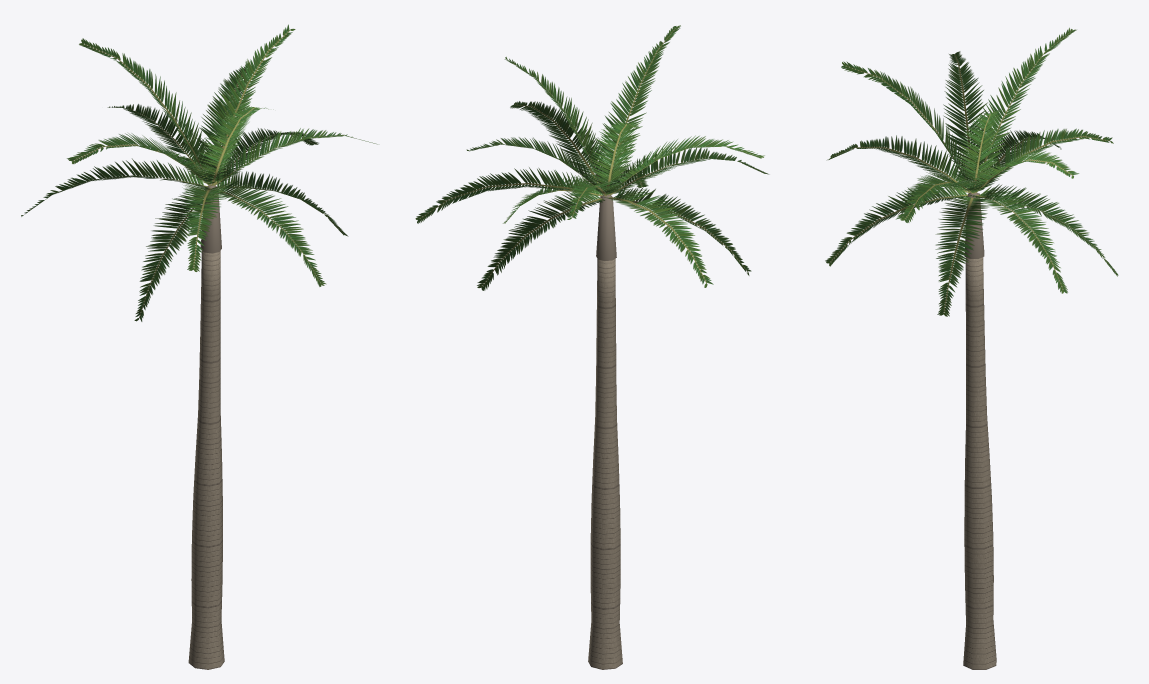
Rendered from veg_palm_royal_a.glb.
The picture shows the model from 3 angles, left to right: view 1: azimuth 30°, elevation 25°; view 2: azimuth 150°, elevation 25°; view 3: azimuth 270°, elevation 25°; orthographic projection. The views are drawn at different scales.
Visible parts, largest first — view 1: Leaves, Trunk; view 2: Leaves, Trunk; view 3: Leaves, Trunk.
Part boxes in pixels (bbox=[...]): Leaves: bbox=[21, 24, 377, 321]; Trunk: bbox=[188, 185, 224, 669]; Leaves: bbox=[415, 25, 769, 290]; Trunk: bbox=[588, 194, 622, 669]; Leaves: bbox=[825, 27, 1118, 316]; Trunk: bbox=[963, 192, 996, 669].
Bounding box in the file's own units: 27.55 × 50.16 × 24.55.
2 materials, 2 textured.
